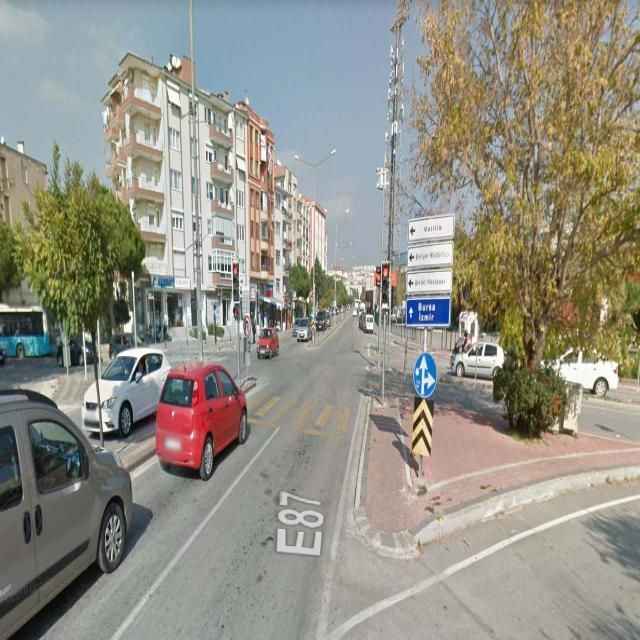ilerisag: (414, 353, 436, 392)
kirmizi: (382, 262, 388, 306), (233, 262, 239, 302)
